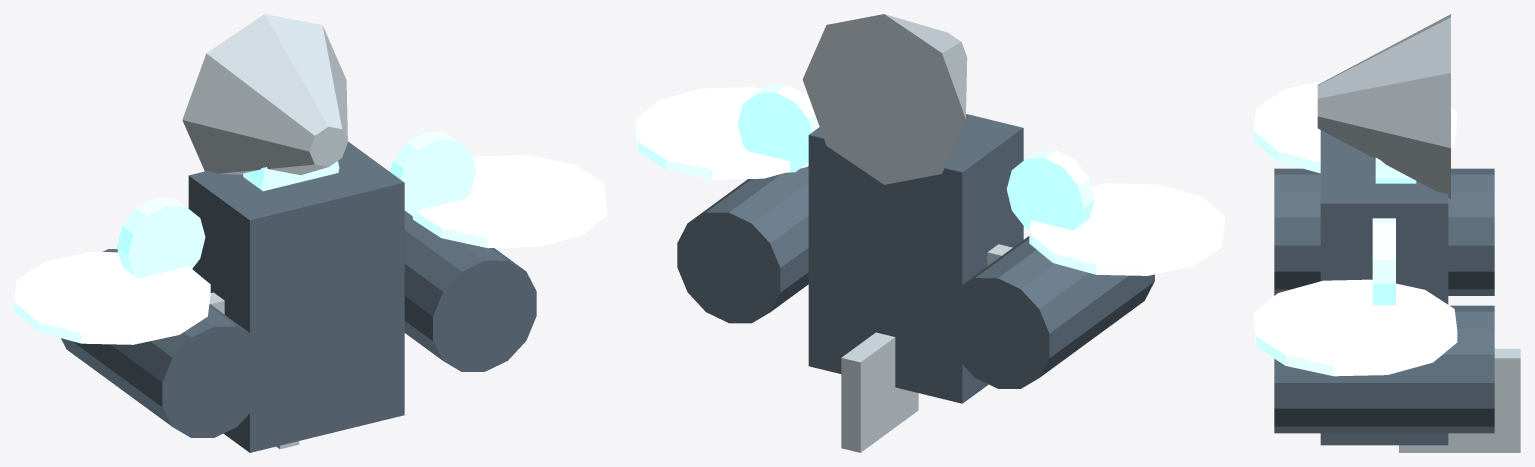
The model's file is enemy_drone_crio_lama.glb.
3 views of the same model, side by side, from view 1: azimuth 30°, elevation 25°; view 2: azimuth 150°, elevation 25°; view 3: azimuth 270°, elevation 25° (orthographic). The views are drawn at different scales.
Parts seen in each view (by area): view 1: PodCenter, NoseCone, TurbineR, TurbineL, SawDiscL, SawDiscR, IntakeL, IntakeR, EyeLens; view 2: PodCenter, NoseCone, TurbineL, TurbineR, SawDiscL, SawDiscR, TailFin, IntakeL, IntakeR; view 3: TurbineR, SawDiscR, PodCenter, NoseCone, TurbineL, SawDiscL, TailFin, IntakeR, EyeLens.
Boxes of the visible parts, left/top/right/bottom form: PodCenter: left=188, top=141, right=404, bottom=452; NoseCone: left=182, top=14, right=347, bottom=175; TurbineR: left=404, top=210, right=536, bottom=371; TurbineL: left=61, top=249, right=265, bottom=437; SawDiscL: left=14, top=251, right=210, bottom=344; SawDiscR: left=412, top=155, right=606, bottom=248; IntakeL: left=117, top=198, right=205, bottom=278; IntakeR: left=390, top=132, right=475, bottom=217; EyeLens: left=243, top=161, right=339, bottom=191; PodCenter: left=808, top=114, right=1023, bottom=403; NoseCone: left=802, top=14, right=967, bottom=184; TurbineL: left=946, top=236, right=1154, bottom=388; TurbineR: left=677, top=166, right=808, bottom=323; SawDiscL: left=1029, top=183, right=1224, bottom=275; SawDiscR: left=635, top=87, right=808, bottom=179; TailFin: left=841, top=332, right=918, bottom=452; IntakeL: left=1006, top=150, right=1094, bottom=230; IntakeR: left=737, top=84, right=819, bottom=172; TurbineR: left=1274, top=305, right=1494, bottom=433; SawDiscR: left=1253, top=279, right=1457, bottom=376; PodCenter: left=1320, top=130, right=1448, bottom=445; NoseCone: left=1317, top=14, right=1450, bottom=198; TurbineL: left=1274, top=168, right=1494, bottom=295; SawDiscL: left=1253, top=80, right=1457, bottom=173; TailFin: left=1399, top=348, right=1520, bottom=452; IntakeR: left=1372, top=218, right=1395, bottom=305; EyeLens: left=1375, top=157, right=1416, bottom=183.
Bounding box in the file's own units: 2.34 × 1.64 × 0.9221.
